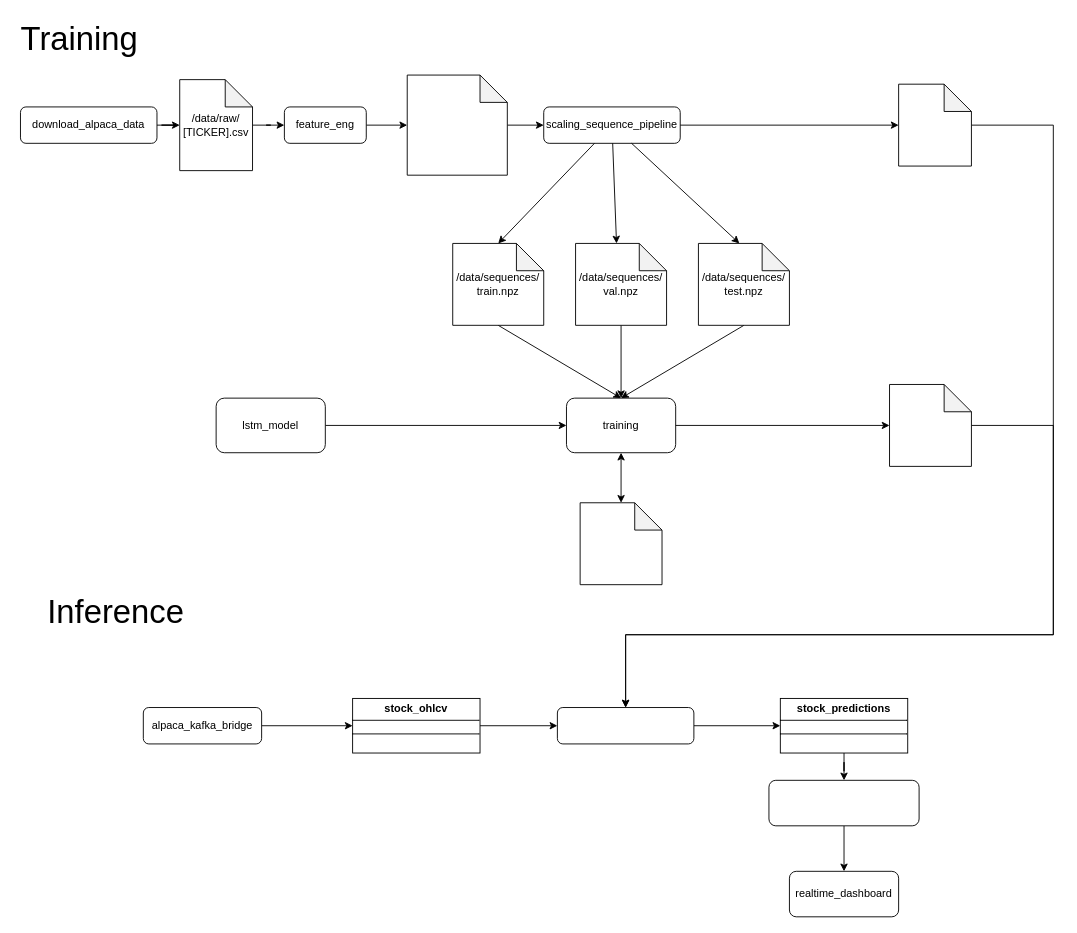
Image size: 1077x933. Some labels were removed from this diagram. The shapes that lost their labels are listed below. From the top down, each one's centre as x and y in pixels, then its label:
At point (456, 124): "/data/features/ [TICKER]_features .parquet".
At point (934, 124): "/models/ scalers.pkl".
At point (930, 425): "/models/ best_model.pt".
At point (620, 543): "/checkpoints/ latest.pt".
At point (625, 725): "kafka_inference_service".
At point (843, 802): "websocket_prediction_server".
